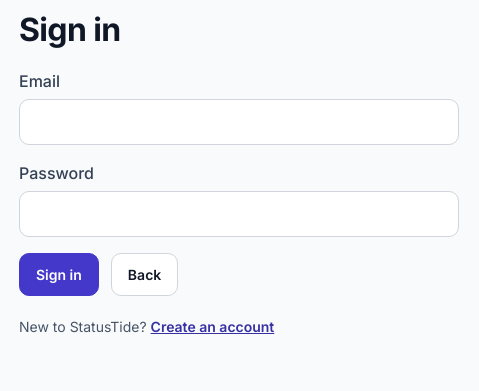
AccountForm › in signIn mode, the Sign in button explains a 401
This screenshot has width=479, height=391.
Type "someone@acme.example" into the field labelled "Email".
click(239, 122); type("someone@acme.example")  # box [19,99,459,145]
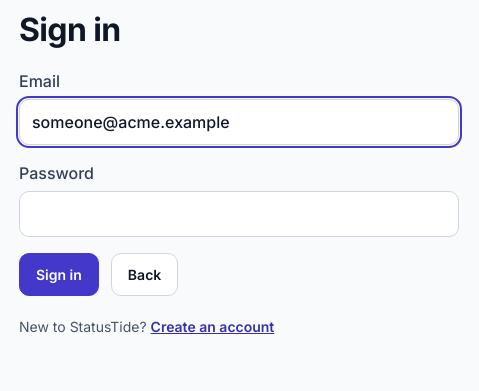
Type "correct-horse-battery" into the password field labelled "Password".
click(239, 214); type("correct-horse-battery")  # box [19,191,459,237]
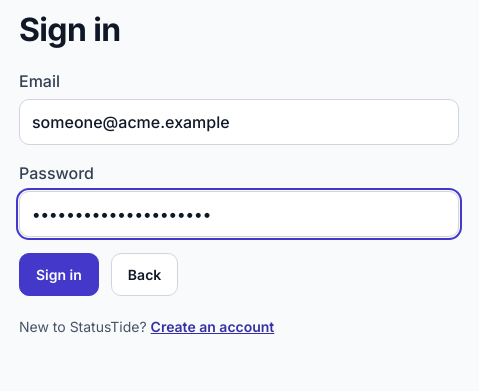
Click the button "Sign in".
click(59, 274)  # box [19,253,99,296]
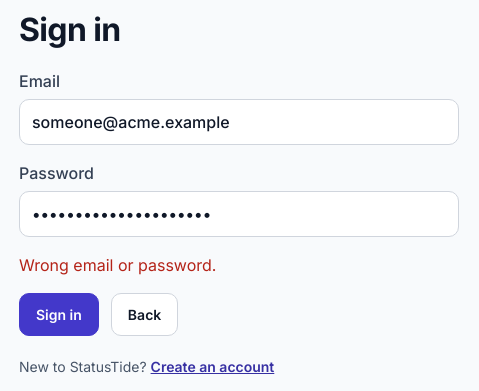
Expected: the button "Sign in" is enabled, [19,293,99,336]
Result: the message reads "Wrong email or password." at [19,255,216,275]
